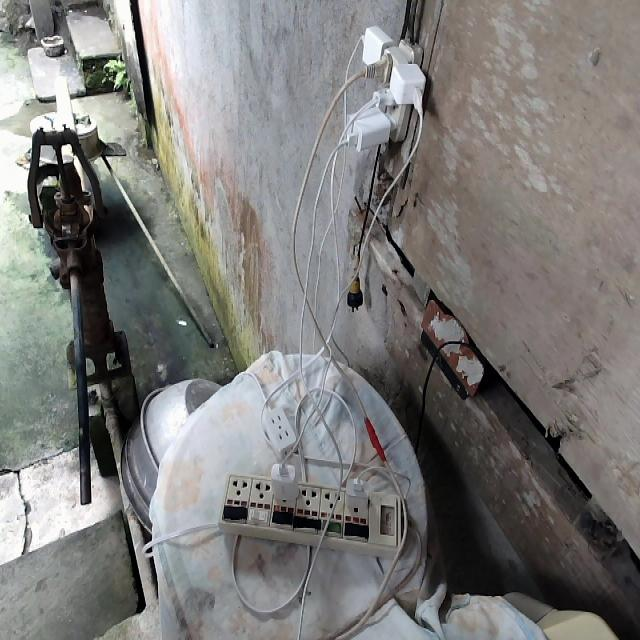-: (340, 23, 428, 158)
